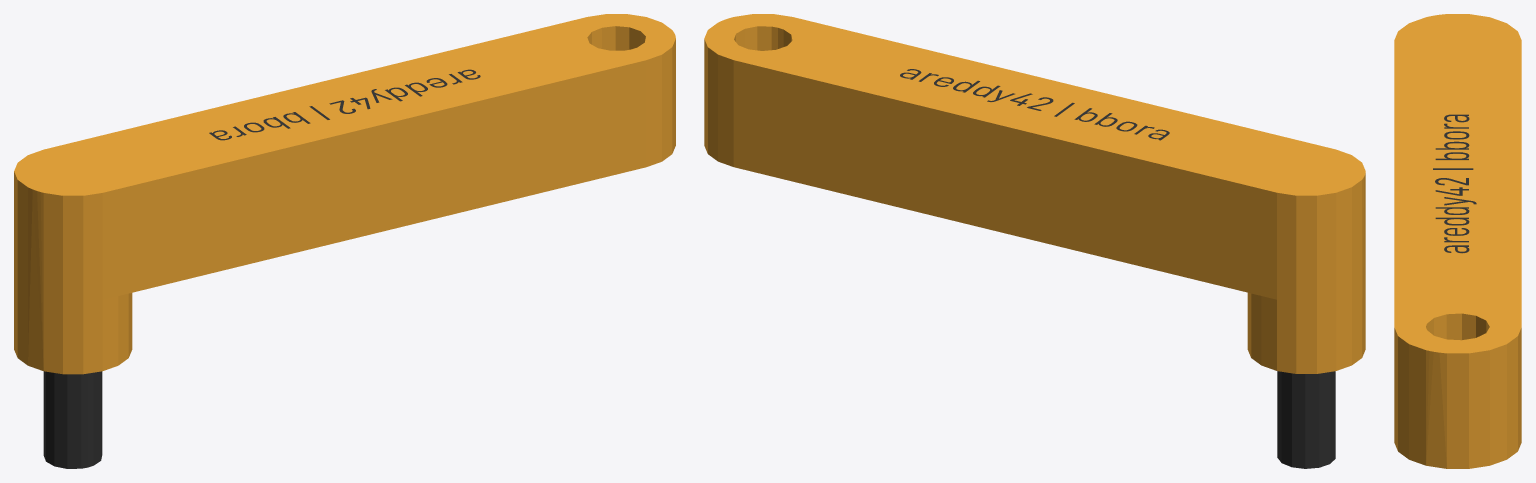
3 renders of one model, left to right at view 1: azimuth 30°, elevation 25°; view 2: azimuth 150°, elevation 25°; view 3: azimuth 270°, elevation 25°, orthographic. The views are drawn at different scales.
Parts seen in each view (by area): view 1: link_2; view 2: link_2; view 3: link_2.
Part boxes in pixels (left/top/right/bottom): link_2: left=14, top=14, right=675, bottom=468; link_2: left=704, top=14, right=1365, bottom=468; link_2: left=1394, top=14, right=1521, bottom=468.
Bounding box in the file's own units: 0.5038 × 0.08 × 0.2134.
